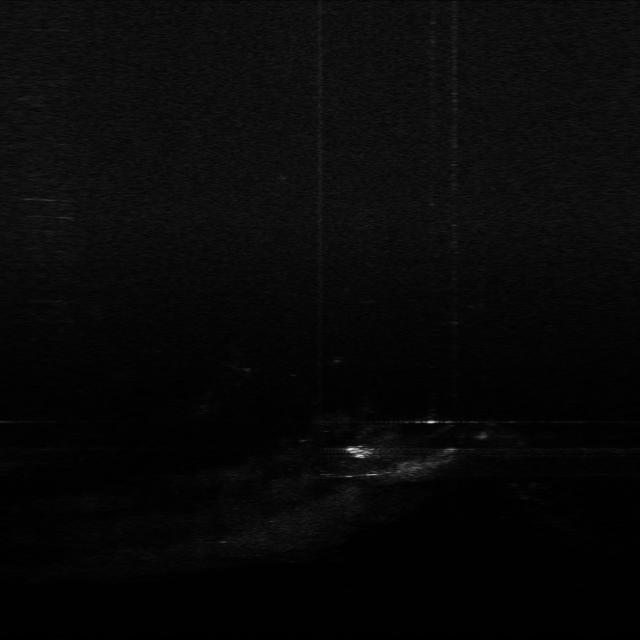rov: (344, 444, 378, 459)
